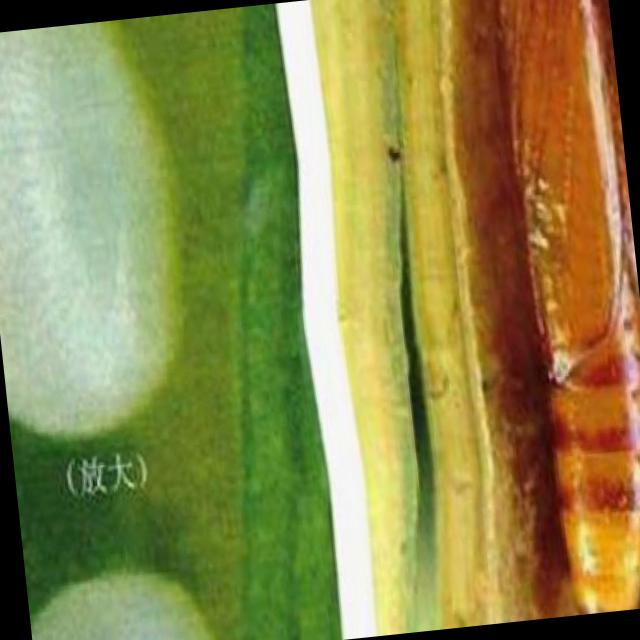whorl-maggot: (472, 0, 640, 618)
